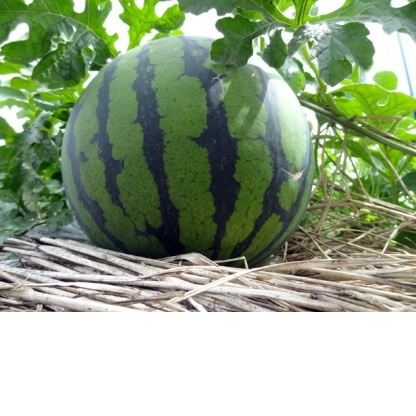duahau: (65, 38, 316, 272)
